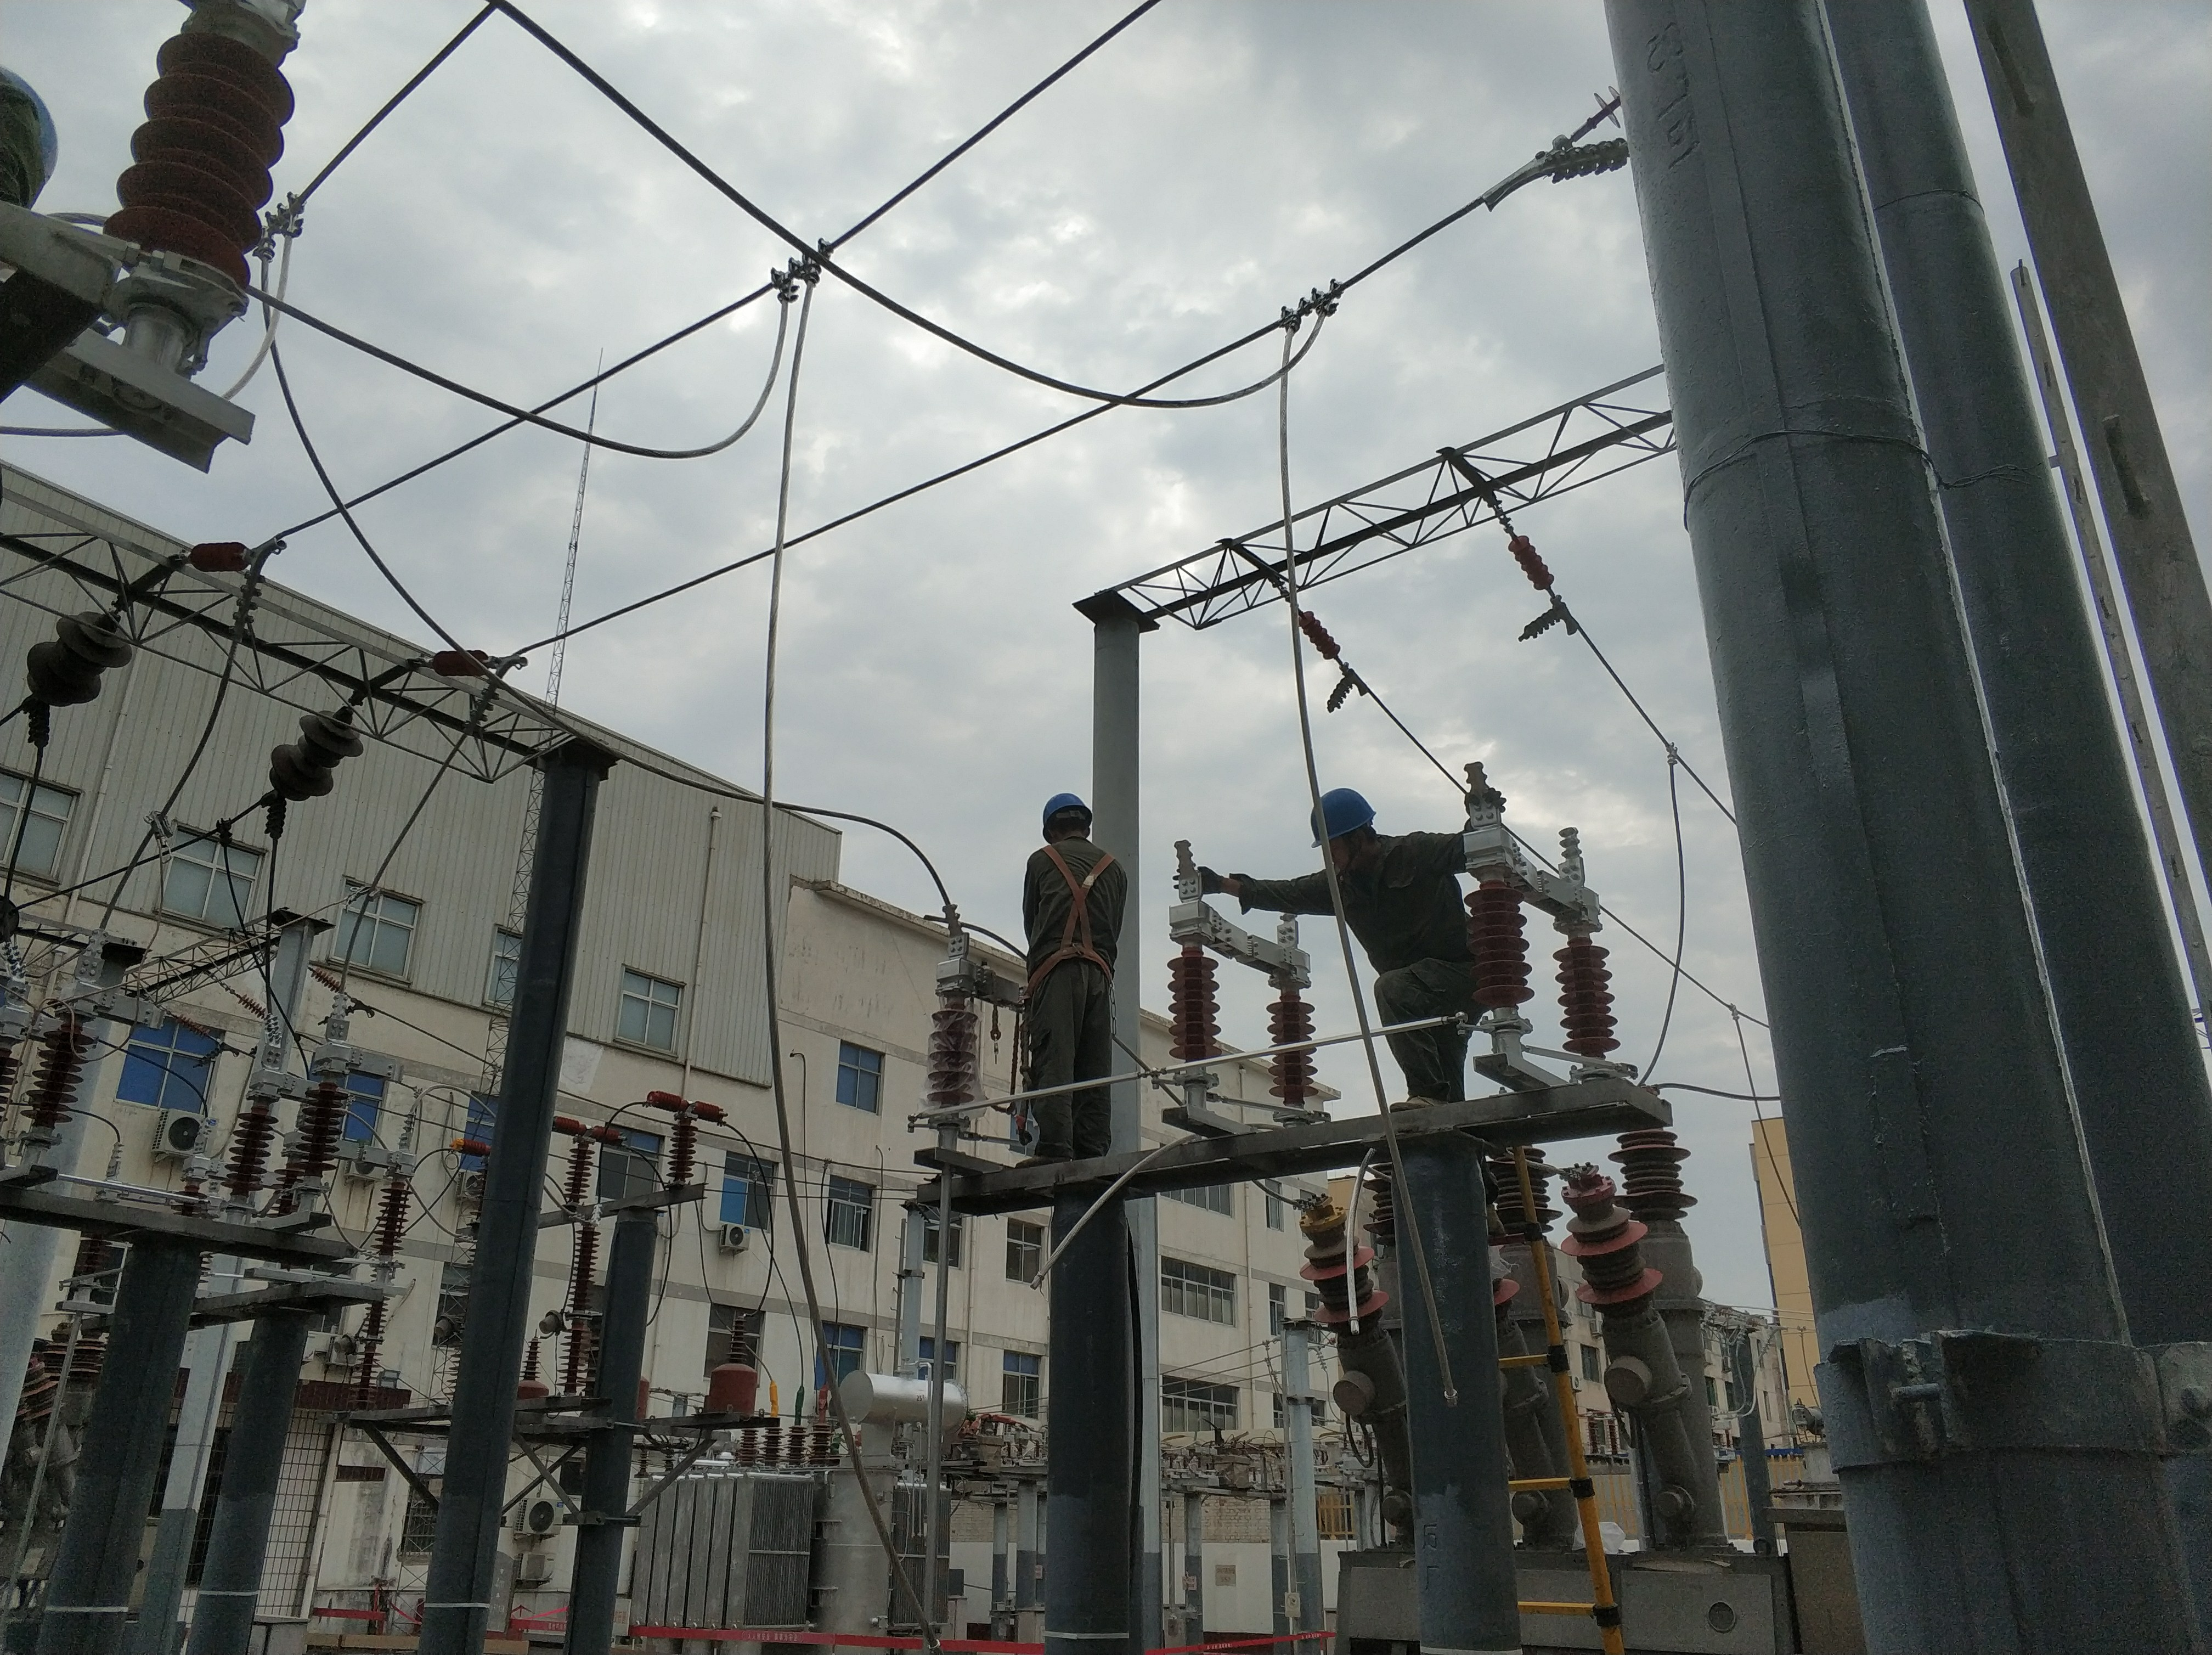hat: (1310, 782, 1385, 862), (1036, 784, 1103, 854)
